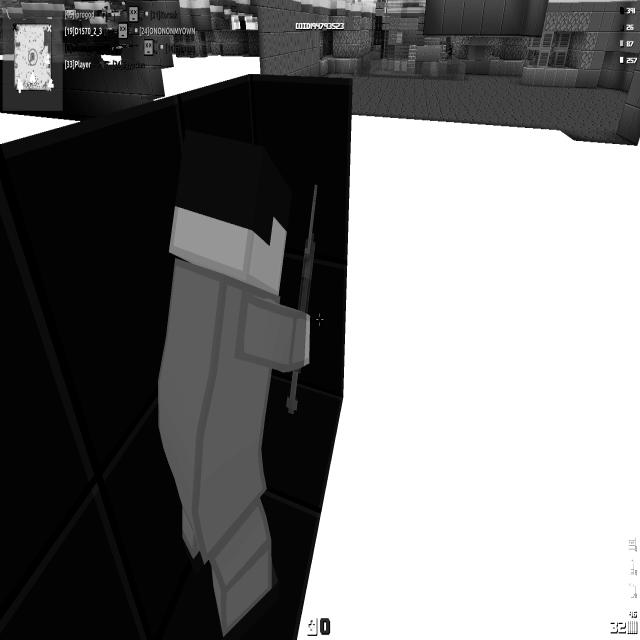Head: (168, 128, 292, 296), (443, 40, 452, 54)
Player: (156, 126, 314, 636), (441, 36, 453, 72)
